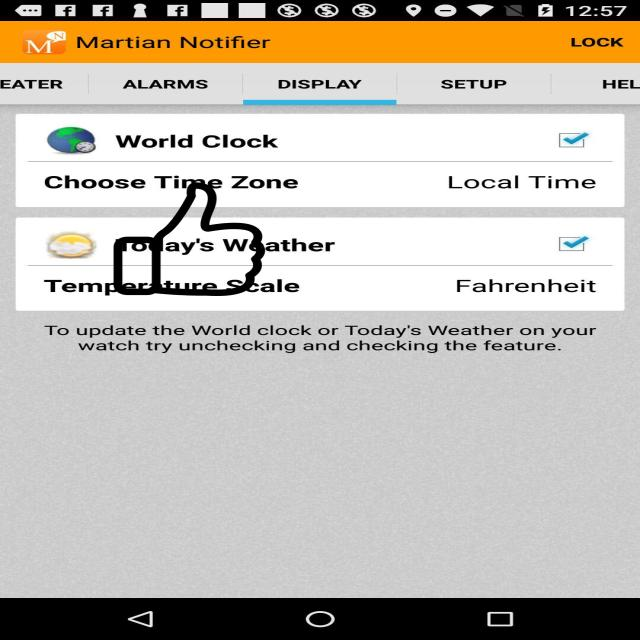privacy zuckering: (111, 182, 268, 296)
